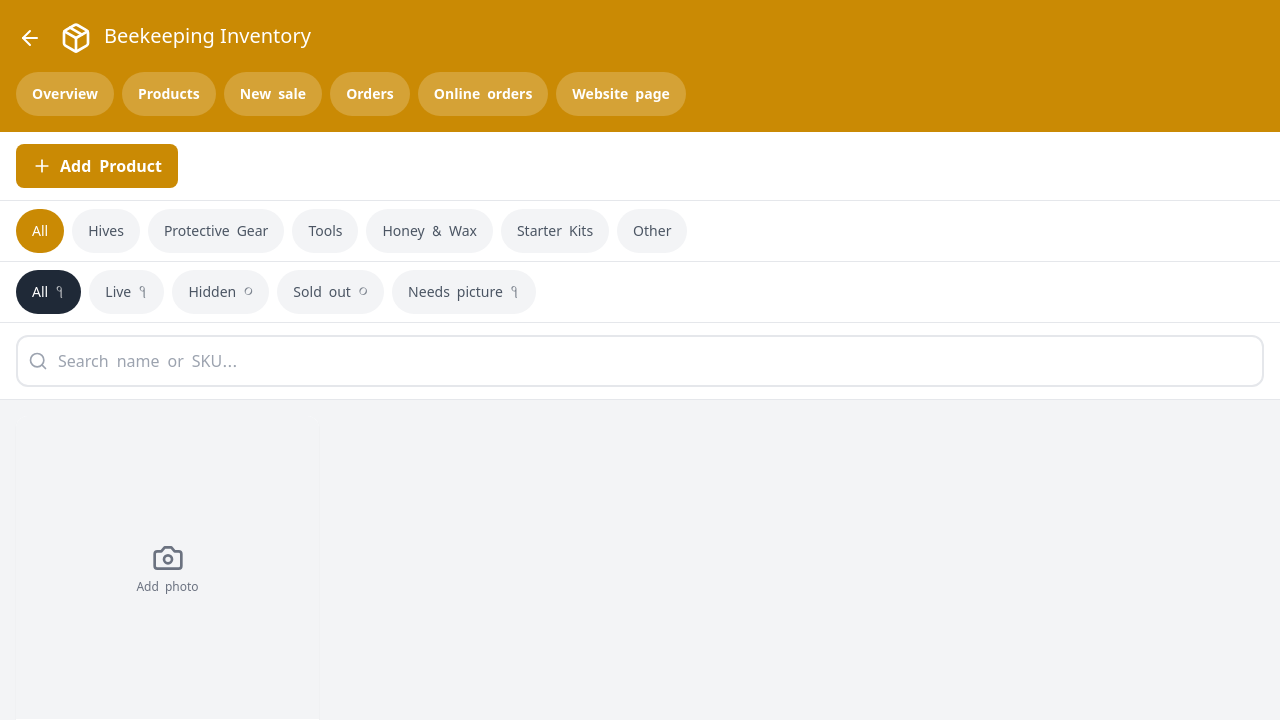
Scenario: BeekeepingInventoryPage › shows the server message when saving fails
Step 1. Click the button "Add Product" → (97, 166), box [16,144,178,188]
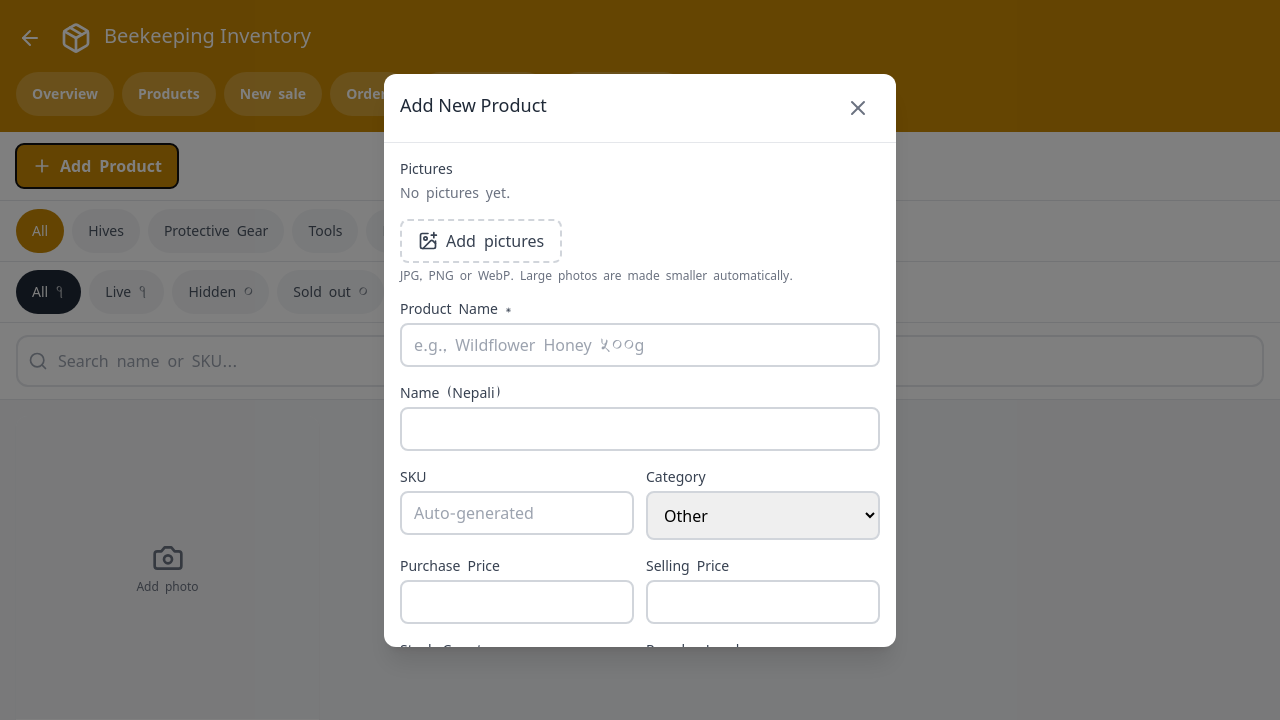
Step 2. Type "Jar" into the field labelled "Product Name *" → (640, 344), box [400,322,880,366]
(page scrolled)
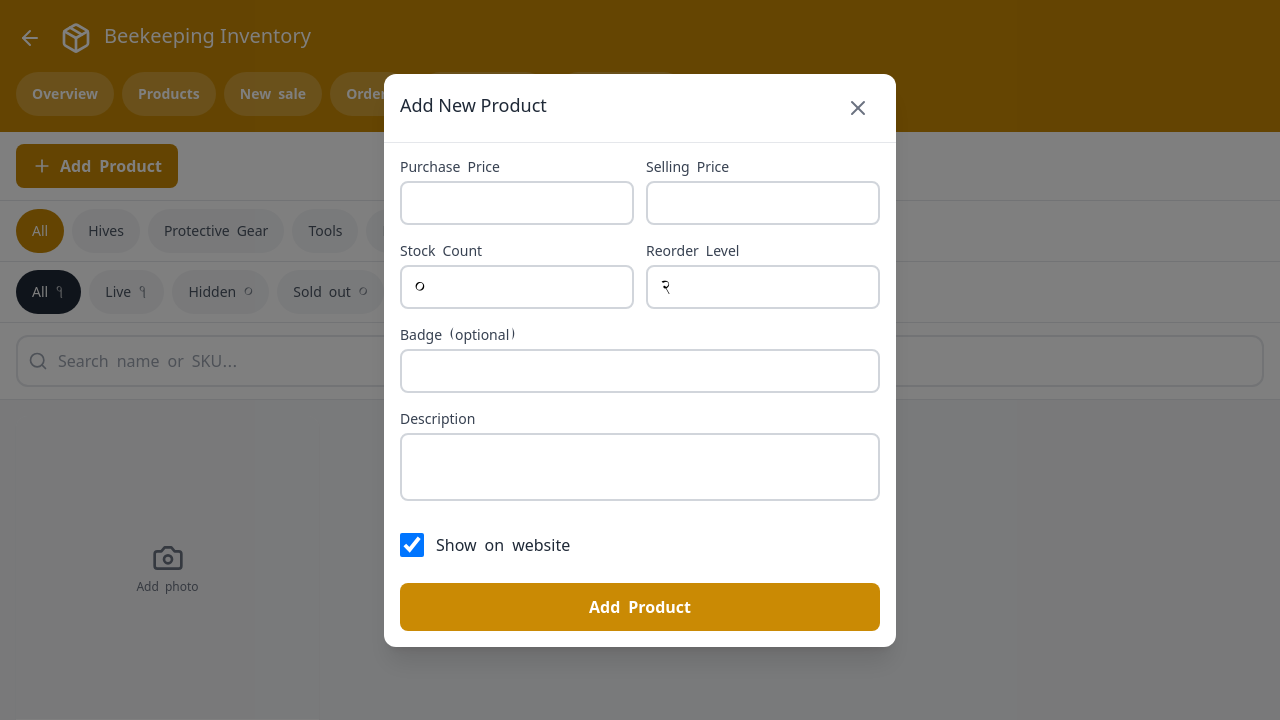
Step 3. Click the button "Add Product" → (640, 606), box [400,582,880,630]
(page scrolled)
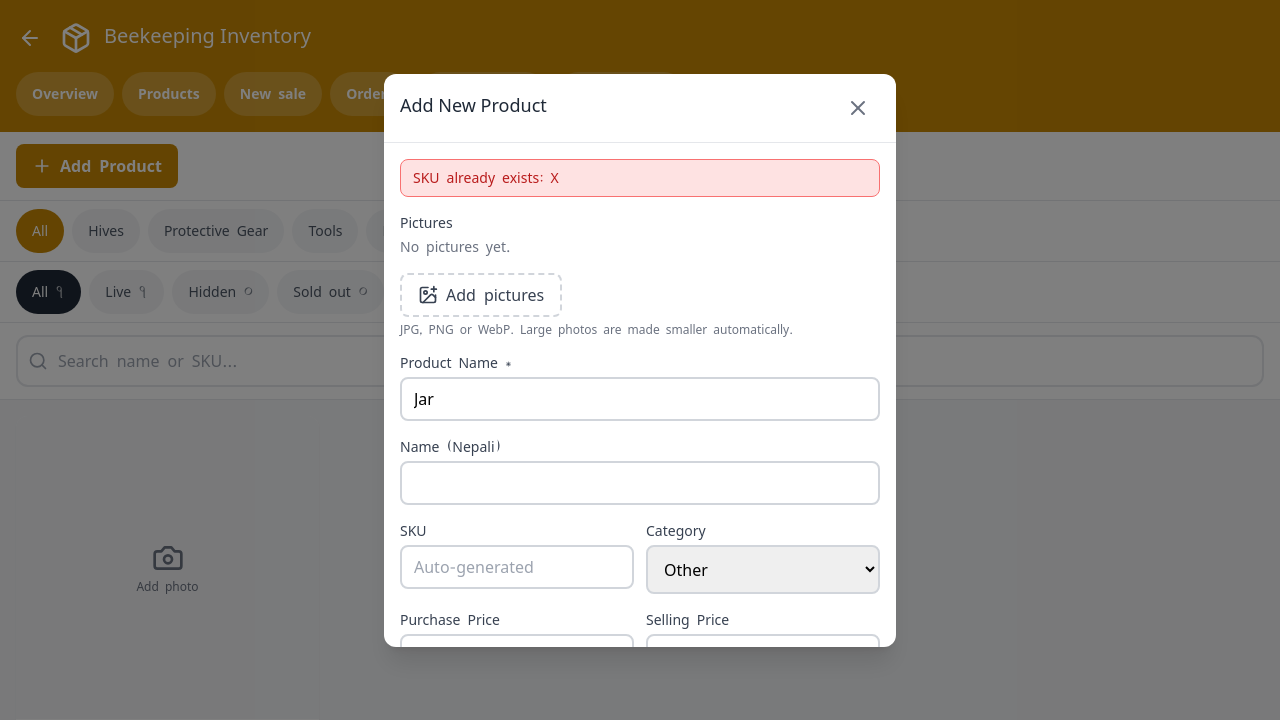
Expected: the text "SKU already exists: X" is shown, [400,158,880,196]
